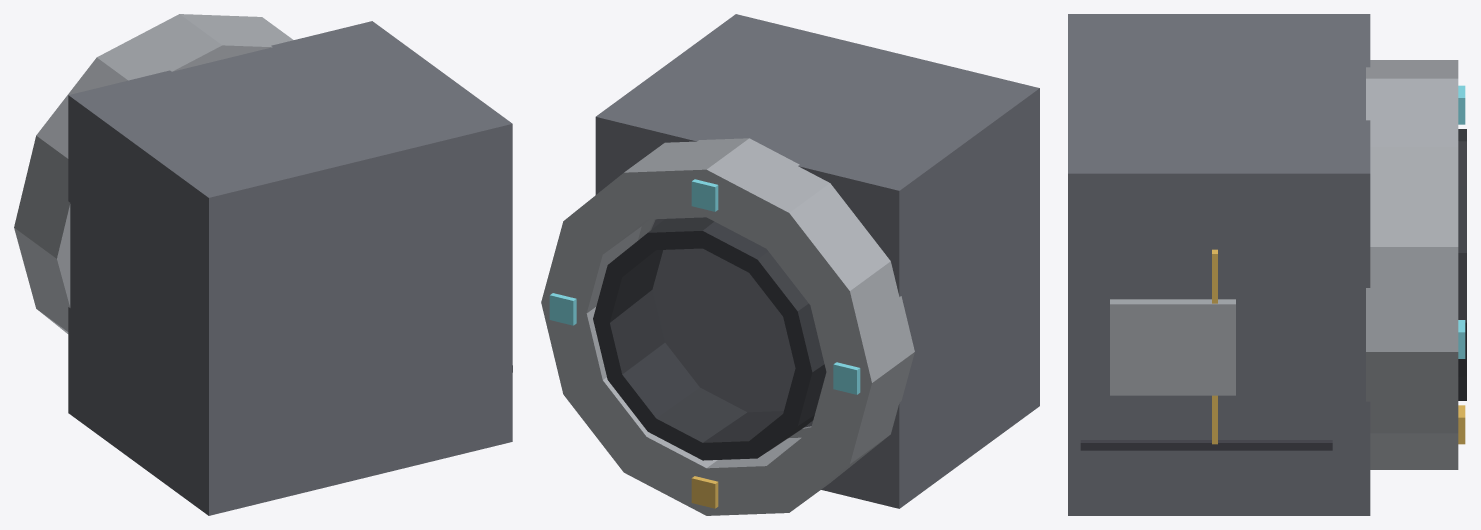
File: dock_flush.glb
3 views of the same model, side by side, from view 1: azimuth 30°, elevation 25°; view 2: azimuth 150°, elevation 25°; view 3: azimuth 270°, elevation 25° (orthographic). The views are drawn at different scales.
Visible parts, largest first — view 1: object 1; view 2: object 1, dock_tube; view 3: object 1, dock_tube.
Part boxes in pixels (x1,y1,x2,y2): object 1: (14,14,512,515); object 1: (541,14,1039,515); dock_tube: (593,217,826,460); object 1: (1068,14,1465,515); dock_tube: (1458,129,1466,400).
Size of the model in its own units: 0.98 by 0.98 by 0.95.
